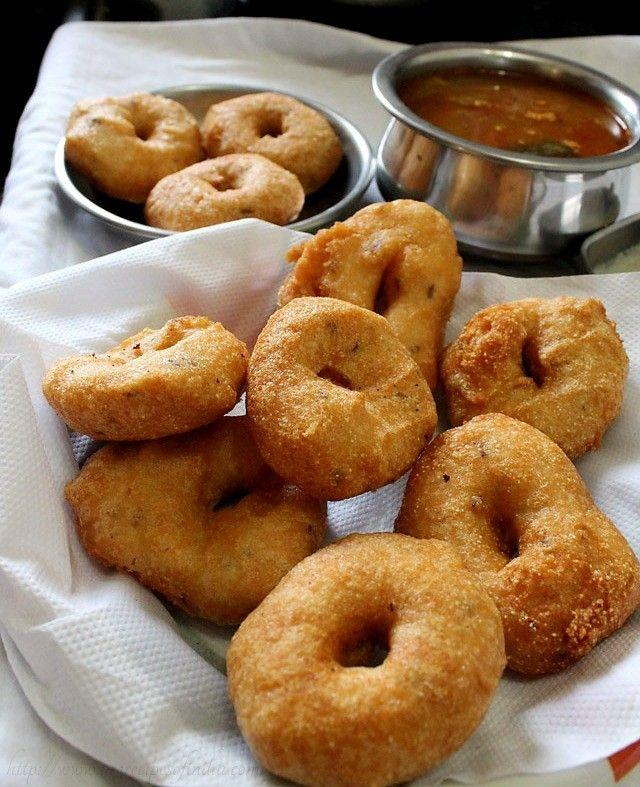medu vada: (41, 227, 640, 766), (63, 81, 364, 238)
sambhar: (409, 45, 631, 171)
